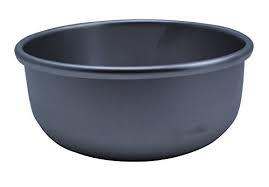Sponge Bowl: (13, 9, 252, 165)
